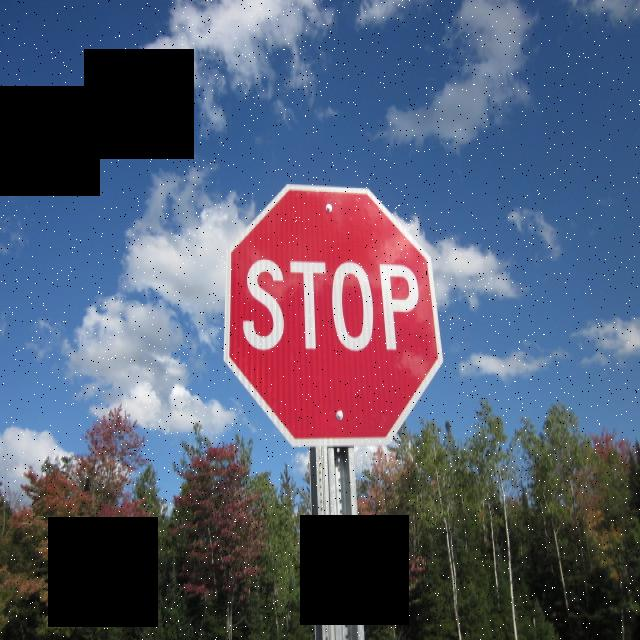stop: (223, 182, 447, 448)
